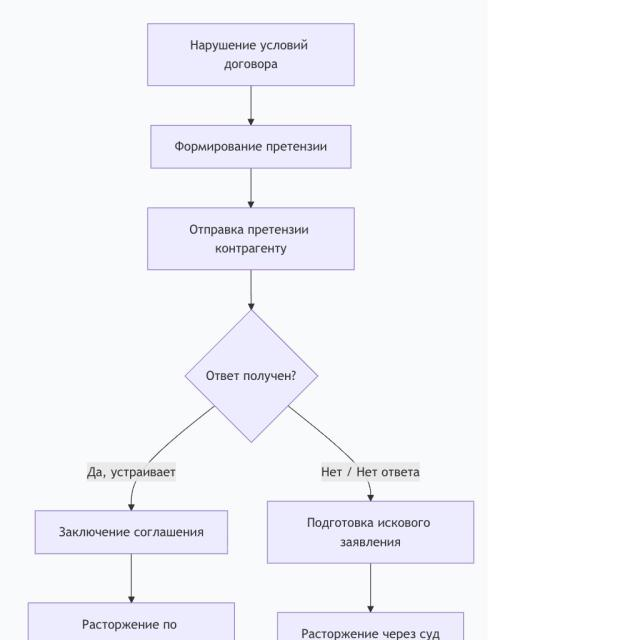arrow: (145, 405, 214, 465), (288, 406, 356, 463), (246, 87, 254, 124), (368, 564, 373, 612), (129, 555, 134, 602), (248, 169, 254, 208), (249, 270, 254, 309)
diamond: (185, 309, 318, 443)
rectangle: (267, 501, 474, 563), (148, 208, 354, 270), (148, 24, 354, 86), (151, 125, 351, 168), (35, 510, 228, 554), (28, 602, 234, 639), (277, 612, 464, 639)
text_region: (88, 463, 177, 480), (321, 464, 421, 479)
